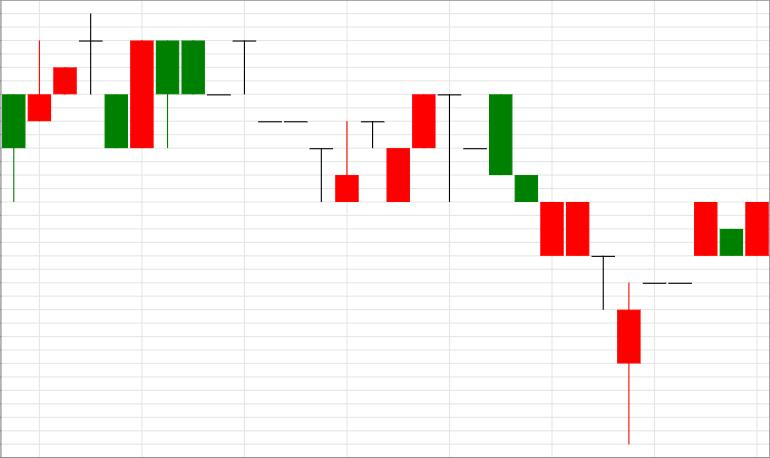inverse_hammer_rise: (233, 39, 359, 202)
